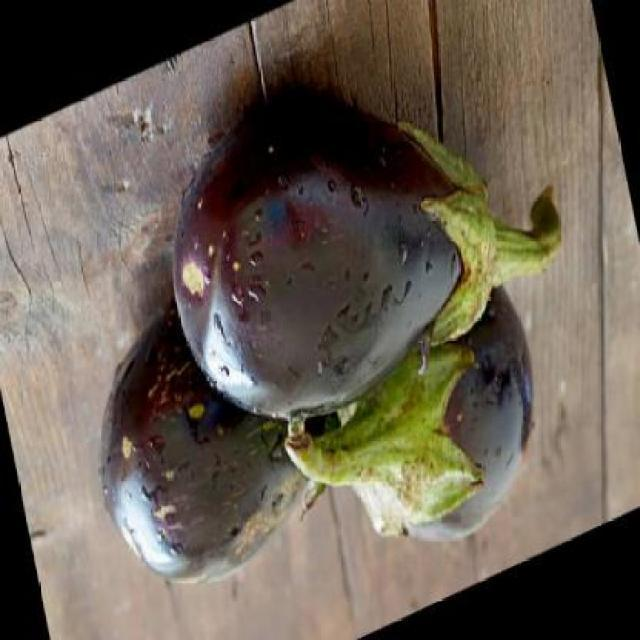eggplant: (164, 74, 566, 428), (98, 286, 354, 594), (270, 273, 540, 552)
